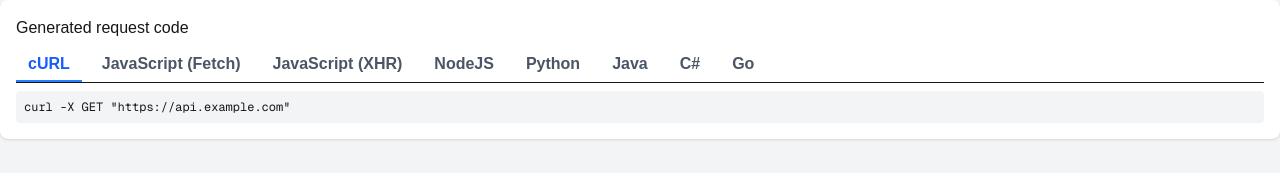
Test case: CodeBlock › переключает отображаемый код при клике на вкладку
This screenshot has width=1280, height=173.
Check: the text "curl -X GET \"https://api.example.com\"" is shown, box [16,91,1264,123]
Click the button "JavaScript (Fetch)" at (171, 65), box [90,48,252,82]
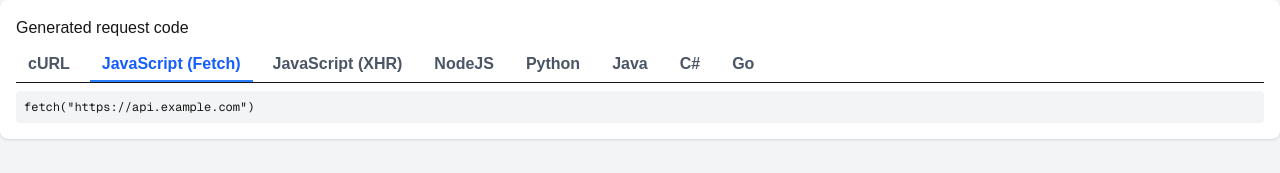
Check: the text "fetch(\"https://api.example.com\")" is shown, box [16,91,1264,123]
Click the button "Python" at (553, 65), box [514,48,592,82]
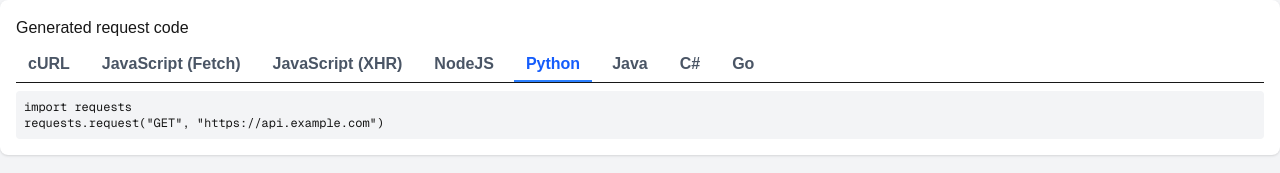
Check: the text "requests.request(\"GET\", \"https://api.example.com\")" is shown, box [24,99,384,131]
